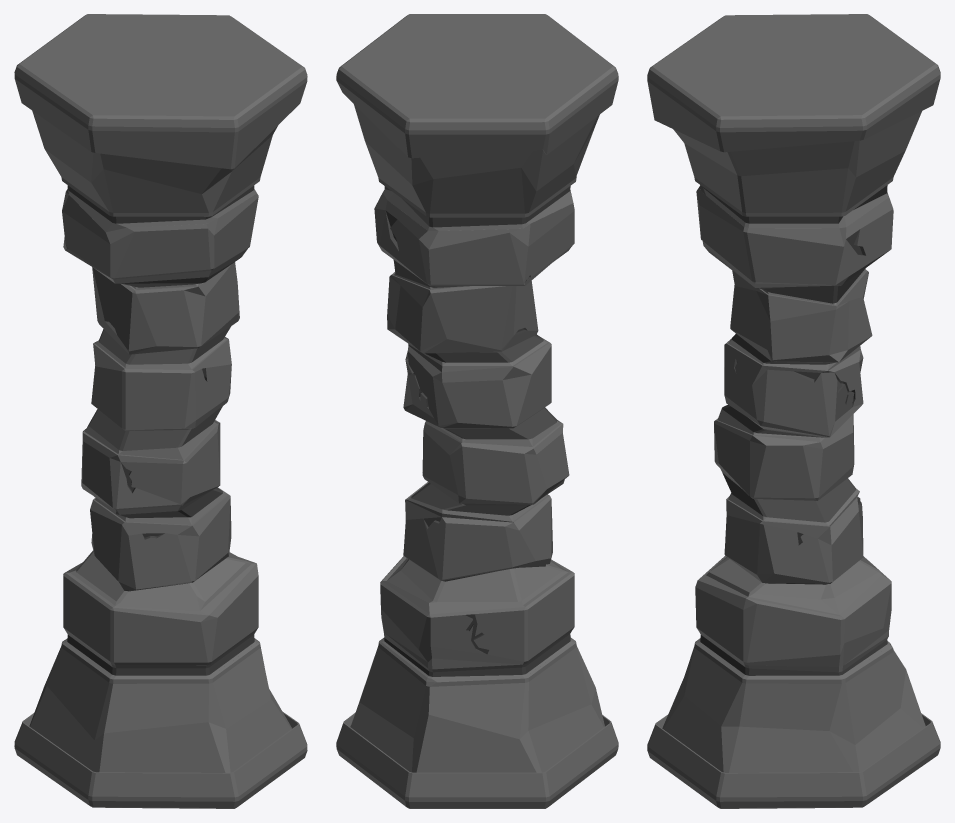
The model's file is Säule_003.fbx.
3 renders of one model, left to right at view 1: azimuth 30°, elevation 25°; view 2: azimuth 150°, elevation 25°; view 3: azimuth 270°, elevation 25°, orthographic.
Visible parts, largest first — view 1: Säule_003; view 2: Säule_003; view 3: Säule_003.
Part boxes in pixels (x1,y1,x2,y2): Säule_003: (14, 14, 307, 808); Säule_003: (336, 14, 618, 808); Säule_003: (647, 14, 940, 808).
Size of the model in its own units: 256 by 773 by 297.
